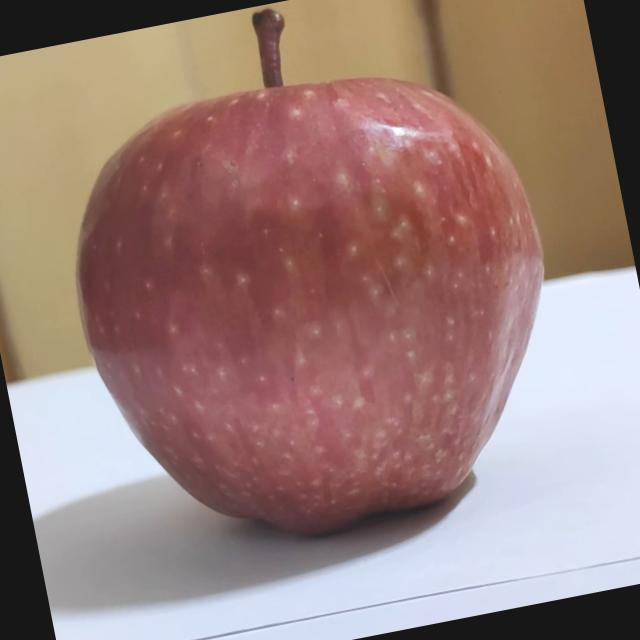apple: (20, 0, 587, 583)
